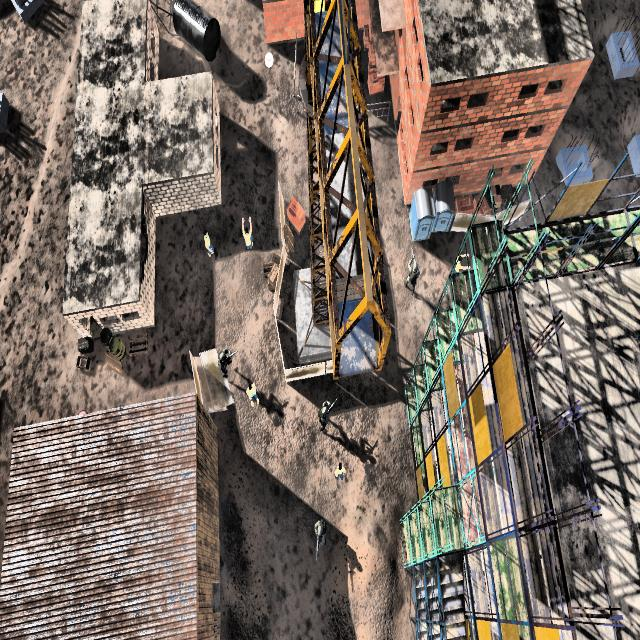bad: (310, 505, 332, 563), (402, 245, 425, 300), (213, 338, 237, 387), (315, 392, 337, 437)
good: (238, 210, 257, 256), (330, 451, 351, 492), (199, 222, 220, 260), (242, 375, 262, 409), (454, 238, 466, 280)
